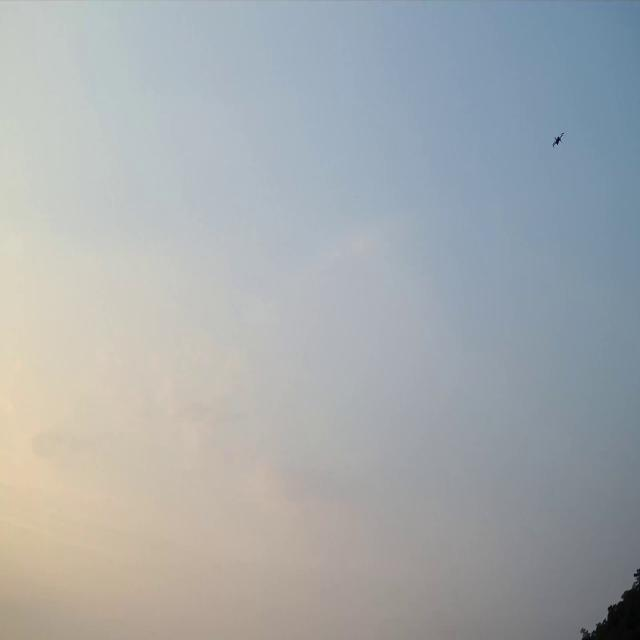UAV: (551, 132, 565, 152)
